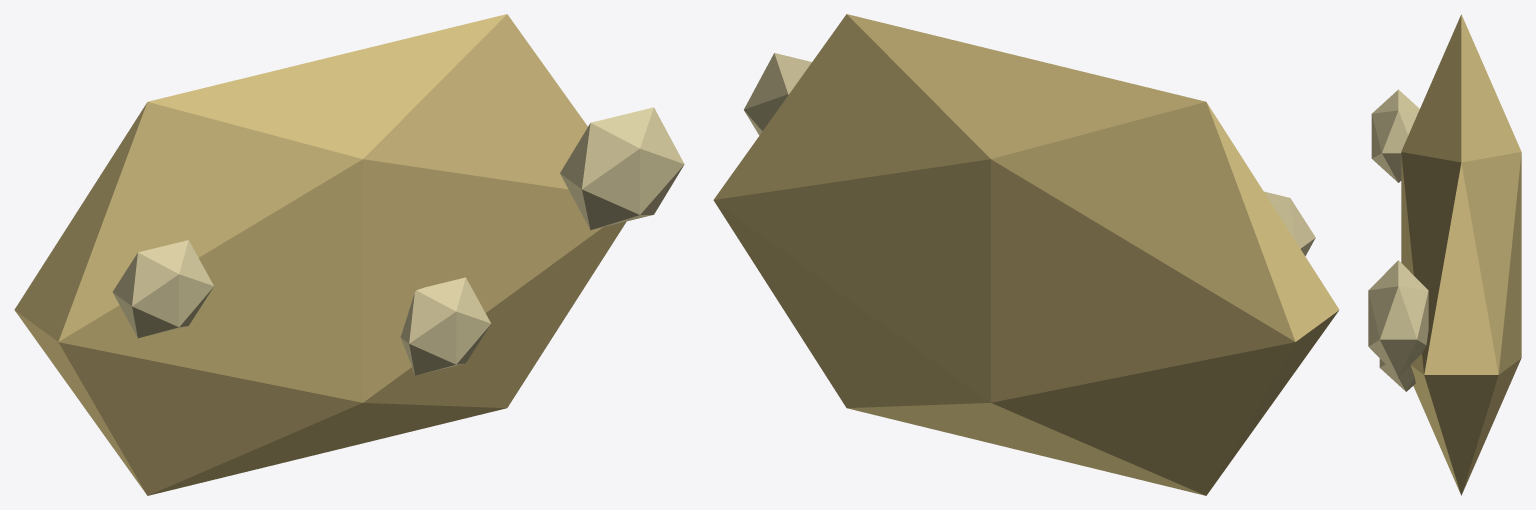
File: slime_mold.glb
3 views of the same model, side by side, from view 1: azimuth 30°, elevation 25°; view 2: azimuth 150°, elevation 25°; view 3: azimuth 270°, elevation 25° (orthographic). The views are drawn at different scales.
Parts seen in each view (by area): view 1: world; view 2: world; view 3: world.
Part boxes in pixels (bbox=[...]): world: bbox=[14, 14, 684, 495]; world: bbox=[713, 14, 1339, 495]; world: bbox=[1368, 14, 1521, 495].
Bounding box in the file's own units: 0.7453 × 0.4679 × 0.1948.
